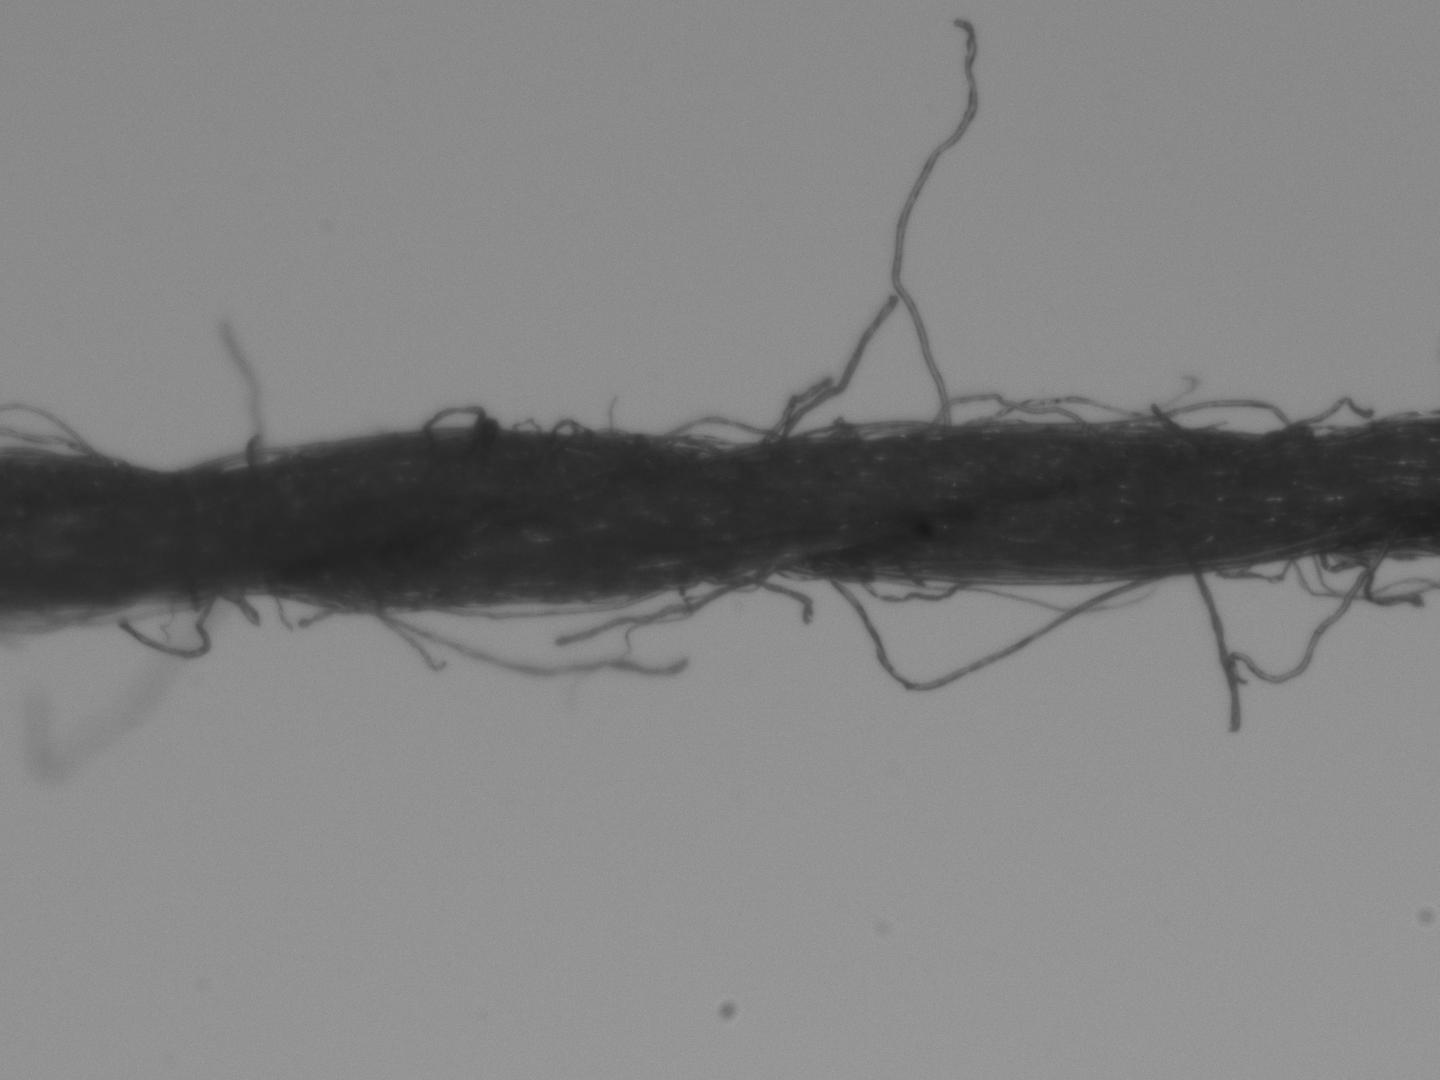loop_fiber: (821, 573, 1154, 691), (420, 590, 663, 624), (1133, 395, 1293, 434), (979, 393, 1142, 425), (657, 412, 789, 447), (1206, 552, 1306, 588), (798, 419, 960, 439), (183, 448, 294, 476), (416, 405, 497, 432), (552, 416, 593, 436)
